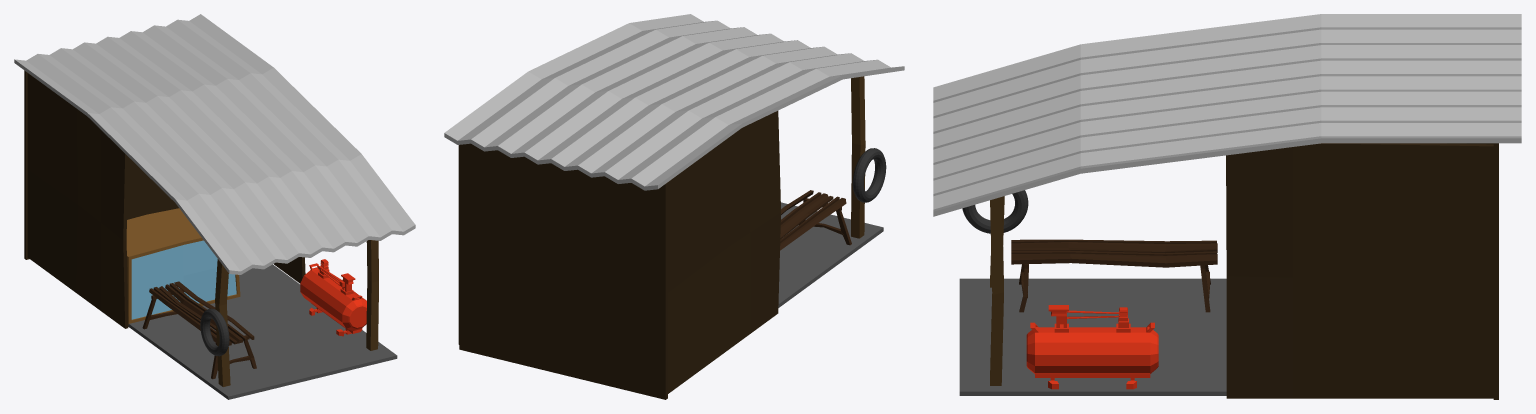
Rendered from bengkel.fbx.
3 renders of one model, left to right at view 1: azimuth 30°, elevation 25°; view 2: azimuth 150°, elevation 25°; view 3: azimuth 270°, elevation 25°, orthographic. The views are drawn at different scales.
Visible parts, largest first — view 1: Plane.004, Plane.003, Plane, tempat barang, kompresor, bangku, Plane.005, Cube, Cube.001, Torus; view 2: Plane.005, Plane.004, Plane.003, Plane, bangku, Cube.001, Torus; view 3: Plane.004, Plane.003, Plane, kompresor, bangku, Cube, Plane.005, Torus.
Boxes of the visible parts, x1=… form: Plane.004: x1=14, y1=14, x2=415, y2=274; Plane.003: x1=27, y1=73, x2=305, y2=328; Plane: x1=128, y1=264, x2=397, y2=399; tempat barang: x1=126, y1=208, x2=240, y2=324; kompresor: x1=300, y1=259, x2=366, y2=336; bangku: x1=142, y1=281, x2=256, y2=379; Plane.005: x1=24, y1=70, x2=178, y2=259; Cube: x1=366, y1=240, x2=378, y2=350; Cube.001: x1=215, y1=259, x2=230, y2=386; Torus: x1=200, y1=308, x2=229, y2=356; Plane.005: x1=459, y1=143, x2=667, y2=399; Plane.004: x1=444, y1=14, x2=904, y2=190; Plane.003: x1=458, y1=111, x2=780, y2=393; Plane: x1=778, y1=202, x2=883, y2=307; bangku: x1=780, y1=190, x2=851, y2=250; Cube.001: x1=851, y1=76, x2=865, y2=238; Torus: x1=852, y1=148, x2=886, y2=202; Plane.004: x1=933, y1=14, x2=1521, y2=216; Plane.003: x1=1226, y1=143, x2=1493, y2=398; Plane: x1=959, y1=278, x2=1226, y2=395; kompresor: x1=1026, y1=305, x2=1158, y2=389; bangku: x1=1011, y1=239, x2=1217, y2=312; Cube: x1=990, y1=197, x2=1003, y2=385; Plane.005: x1=1493, y1=143, x2=1498, y2=399; Torus: x1=962, y1=190, x2=1028, y2=233.
Bounding box in the file's own units: 1892 × 1878 × 3778.
